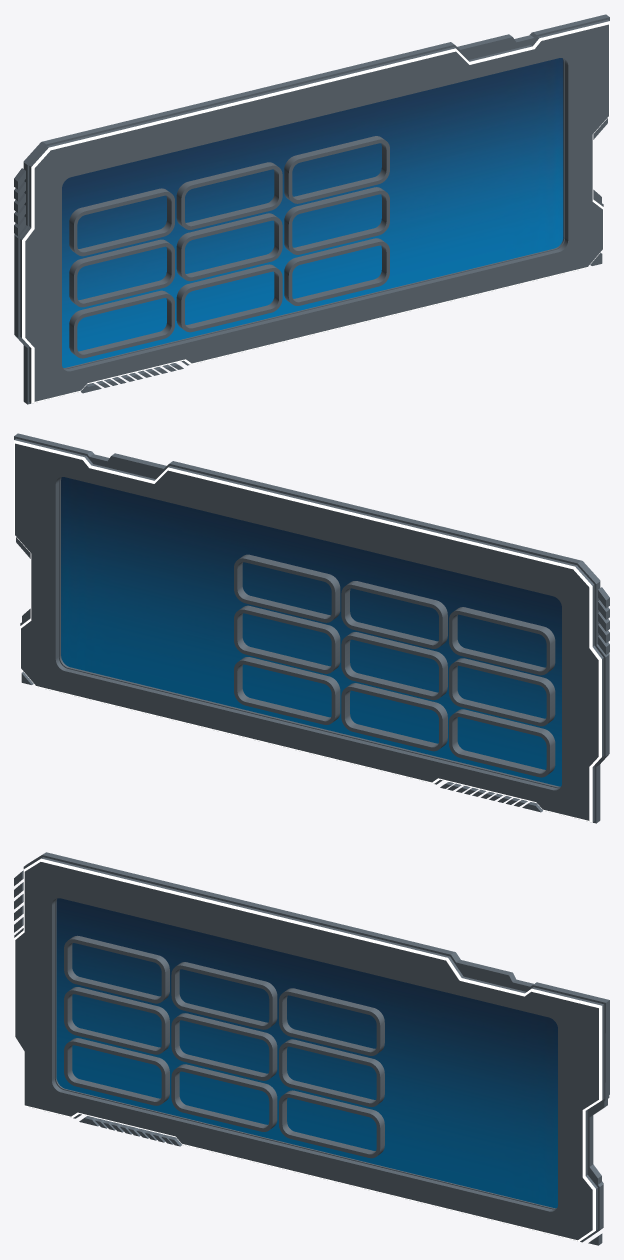
The model's file is BoredApeExplorerCase.glb.
The picture shows the model from 3 angles, top to bottom: view 1: azimuth 30°, elevation 25°; view 2: azimuth 150°, elevation 25°; view 3: azimuth 330°, elevation 25°; orthographic projection.
Visible parts, largest first — view 1: Plane, Boole - Frame-Stairs, Sweep-Stairs (×9), Boole - Frame-GlbRingLight; view 2: Plane, Boole - Frame-Stairs, Sweep-Stairs (×18), Boole - Frame-GlbRingLight; view 3: Plane, Boole - Frame-Stairs, Sweep-Stairs (×9), Boole - Frame-GlbRingLight.
Part boxes in pixels (left/top/right/bottom): Plane: left=62, top=58, right=563, bottom=367; Boole - Frame-Stairs: left=14, top=14, right=609, bottom=404; Sweep-Stairs (×9): left=69, top=136, right=389, bottom=358; Boole - Frame-GlbRingLight: left=22, top=21, right=609, bottom=403; Plane: left=61, top=477, right=561, bottom=786; Boole - Frame-Stairs: left=14, top=433, right=609, bottom=823; Sweep-Stairs (×18): left=234, top=554, right=555, bottom=777; Boole - Frame-GlbRingLight: left=14, top=440, right=601, bottom=822; Plane: left=56, top=898, right=557, bottom=1208; Boole - Frame-Stairs: left=14, top=852, right=609, bottom=1245; Sweep-Stairs (×9): left=64, top=935, right=384, bottom=1158; Boole - Frame-GlbRingLight: left=14, top=858, right=602, bottom=1241.
Bounding box in the file's own units: 12.12 × 5.05 × 0.3575.
3 materials, 1 textured.
